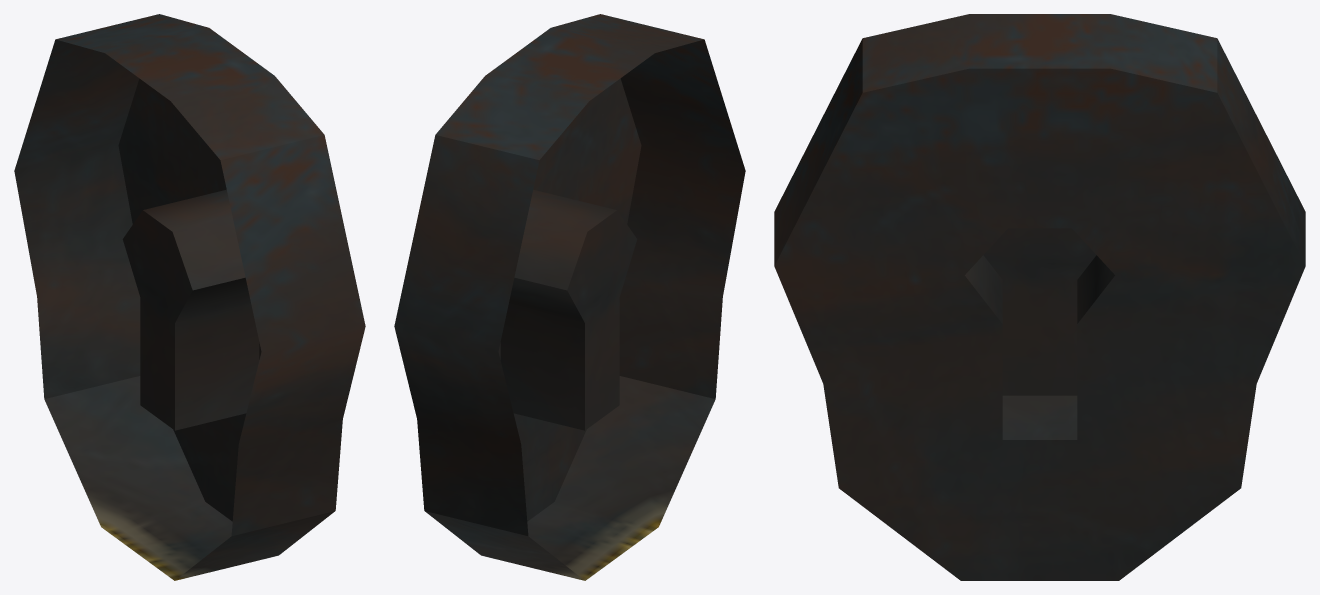
The model's file is keyhole.fbx.
3 views of the same model, side by side, from view 1: azimuth 30°, elevation 25°; view 2: azimuth 150°, elevation 25°; view 3: azimuth 270°, elevation 25° (orthographic). The views are drawn at different scales.
Parts seen in each view (by area): view 1: pCube24; view 2: pCube24; view 3: pCube24.
Boxes of the visible parts, bbox=[...] form: pCube24: bbox=[14, 14, 365, 580]; pCube24: bbox=[394, 14, 745, 580]; pCube24: bbox=[774, 14, 1305, 580].
Size of the model in its own units: 0.0289 by 0.1266 by 0.119.
